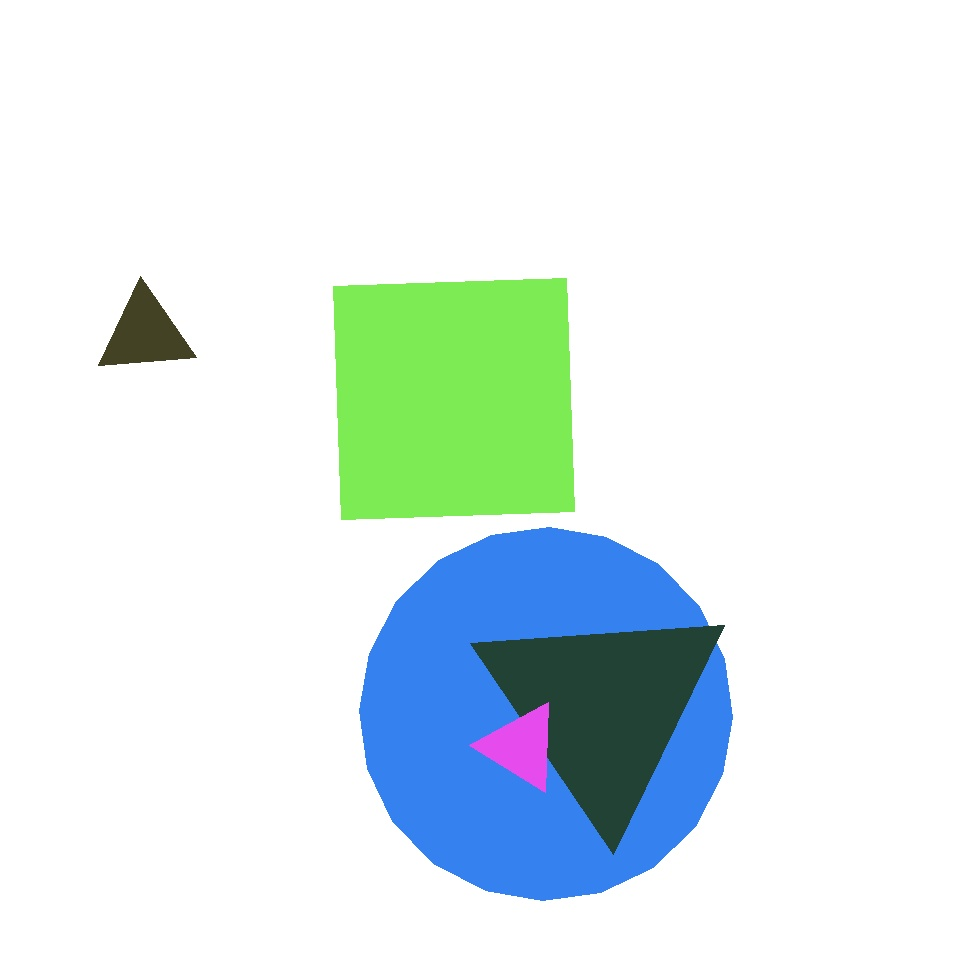circle: (476, 594, 730, 822), (185, 77, 373, 268), (96, 288, 194, 377), (482, 702, 560, 792)
square: (334, 279, 574, 520), (652, 578, 886, 812)
triangle: (360, 528, 732, 900), (554, 394, 764, 603)
